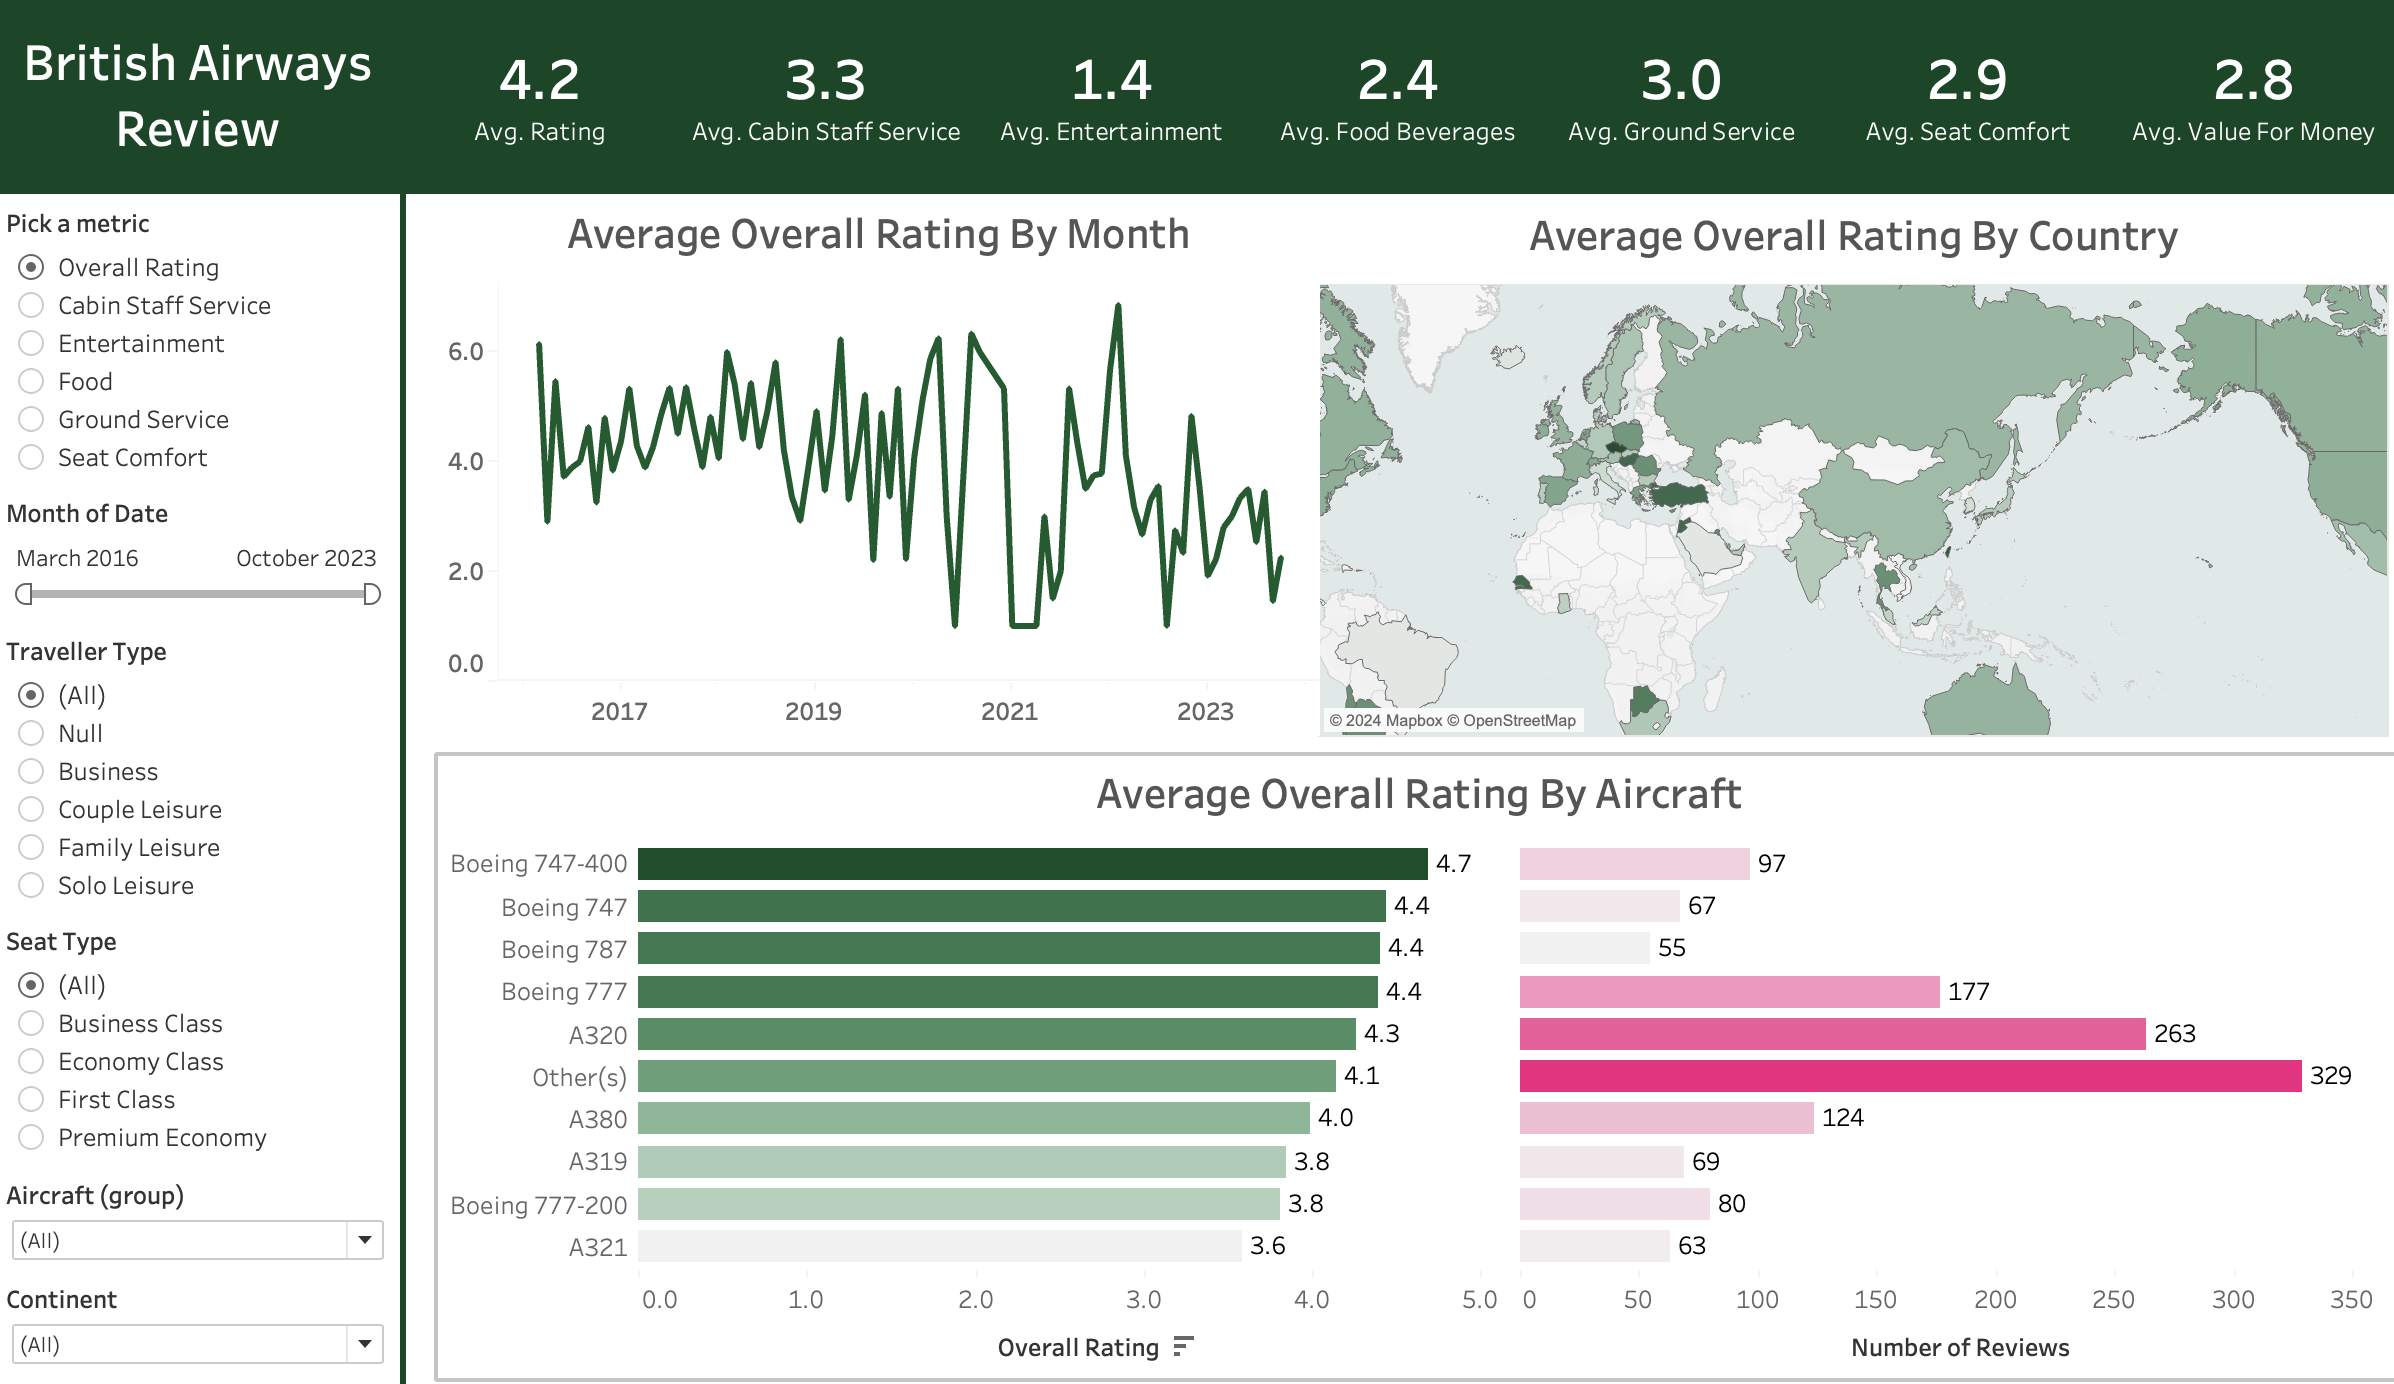

This screenshot's page, from the dashboard's own definition file:
{"tool":"tableau","page":{"name":"Dashboard 1","canvas":[1200,700],"ordinal":0},"visuals":[{"type":"text","box":[0,0,200,100]},{"type":"worksheet","title":"Summary","mark":"Automatic","box":[200,0,999,100]},{"type":"blank","box":[201,100,3,598]},{"type":"worksheet","title":"Line Chart","mark":"Automatic","rows":["Calculation_286330474538807296"],"cols":["date"],"box":[220,101,441,270]},{"type":"parameter","param":"[Parameters].[Parameter 1]","box":[0,102,200,145]},{"type":"worksheet","title":"Map","mark":"Automatic","box":[660,102,536,270]},{"type":"filter","title":"Map","param":"[federated.1t87mxq1h78cpc1beptig1t9re6r].[tmn:date:qk]","box":[0,247,200,69]},{"type":"filter","title":"Map","param":"[federated.1t87mxq1h78cpc1beptig1t9re6r].[none:traveller_type:nk]","box":[0,316,200,145]},{"type":"worksheet","title":"Ratings by Aircraft","mark":"Automatic","cols":["Calculation_286330474538807296","ba_reviews.csv_F19B6720A83A4B058C38066289445C27"],"box":[220,381,982,311]},{"type":"filter","title":"Map","param":"[federated.1t87mxq1h78cpc1beptig1t9re6r].[none:seat_type:nk]","box":[0,461,200,127]},{"type":"filter","title":"Map","param":"[federated.1t87mxq1h78cpc1beptig1t9re6r].[Aircraft (group)]","box":[0,588,200,52]},{"type":"filter","title":"Map","param":"[federated.1t87mxq1h78cpc1beptig1t9re6r].[none:Continent:nk]","box":[0,640,200,52]}]}

Visuals, with their boxes in screenshot pixels (x1, y1, x2, y2), scaled from the page's 1200x700 canvas onto the 2394x1384 screenshot:
text: bbox(0, 0, 399, 198)
"Summary" worksheet: bbox(399, 0, 2392, 198)
blank: bbox(401, 198, 407, 1380)
"Line Chart" worksheet: bbox(439, 200, 1319, 734)
parameter: bbox(0, 202, 399, 488)
"Map" worksheet: bbox(1317, 202, 2386, 735)
"Map" filter: bbox(0, 488, 399, 625)
"Map" filter: bbox(0, 625, 399, 911)
"Ratings by Aircraft" worksheet: bbox(439, 753, 2393, 1368)
"Map" filter: bbox(0, 911, 399, 1163)
"Map" filter: bbox(0, 1163, 399, 1265)
"Map" filter: bbox(0, 1265, 399, 1368)
